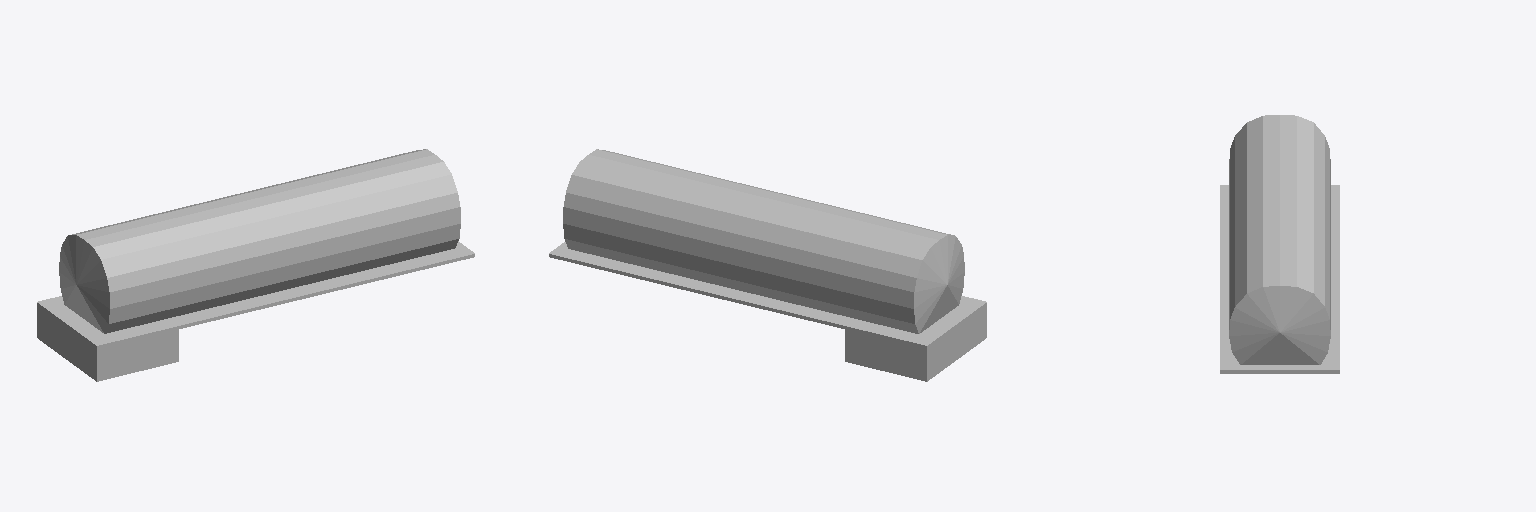
File: tanker1.obj
3 views of the same model, side by side, from view 1: azimuth 30°, elevation 25°; view 2: azimuth 150°, elevation 25°; view 3: azimuth 270°, elevation 25° (orthographic).
Visible parts, largest first — view 1: tanker; view 2: tanker; view 3: tanker.
Boxes of the visible parts, x1=… form: tanker: x1=37, y1=149, x2=474, y2=381; tanker: x1=549, y1=149, x2=986, y2=381; tanker: x1=1220, y1=115, x2=1339, y2=373.
Size of the model in its own units: 464 by 135 by 128.